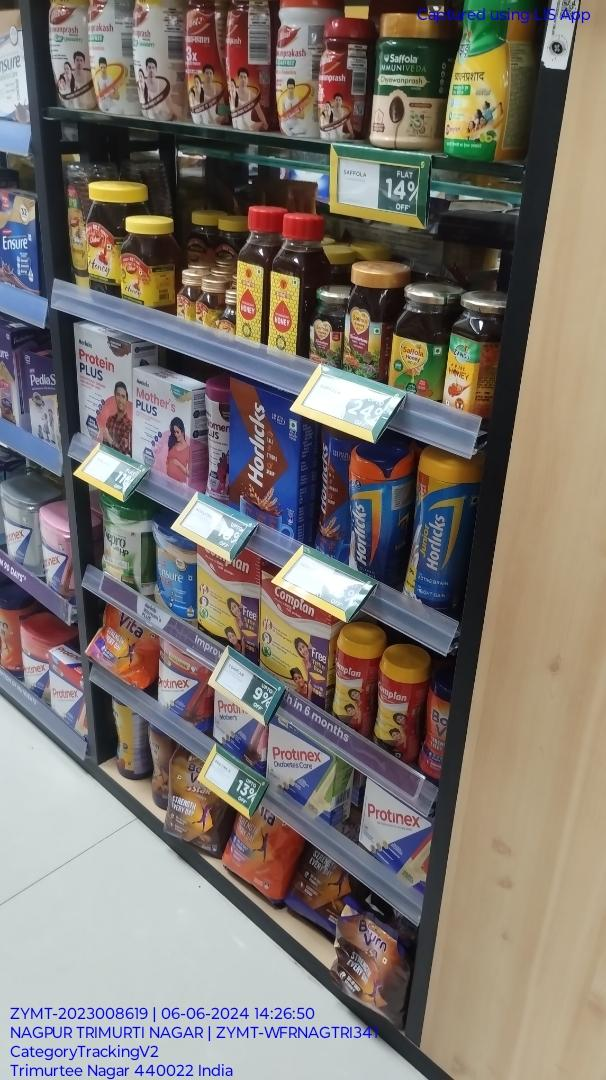COMPLAN_CHOCOLATE_500_GMS_JAR: (375, 651, 422, 763), (336, 626, 370, 736)
COMPLAN_CHOCOLATE_500_GMS_PACK: (196, 539, 257, 669)
COMPLAN_KESAR_BADAM_500_GMS_PACK: (261, 569, 327, 714)
HORLICK_CHOCOLATE_500_G_JAR: (346, 442, 412, 592)
